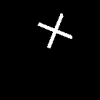single_crochet: (38, 14, 71, 47)
